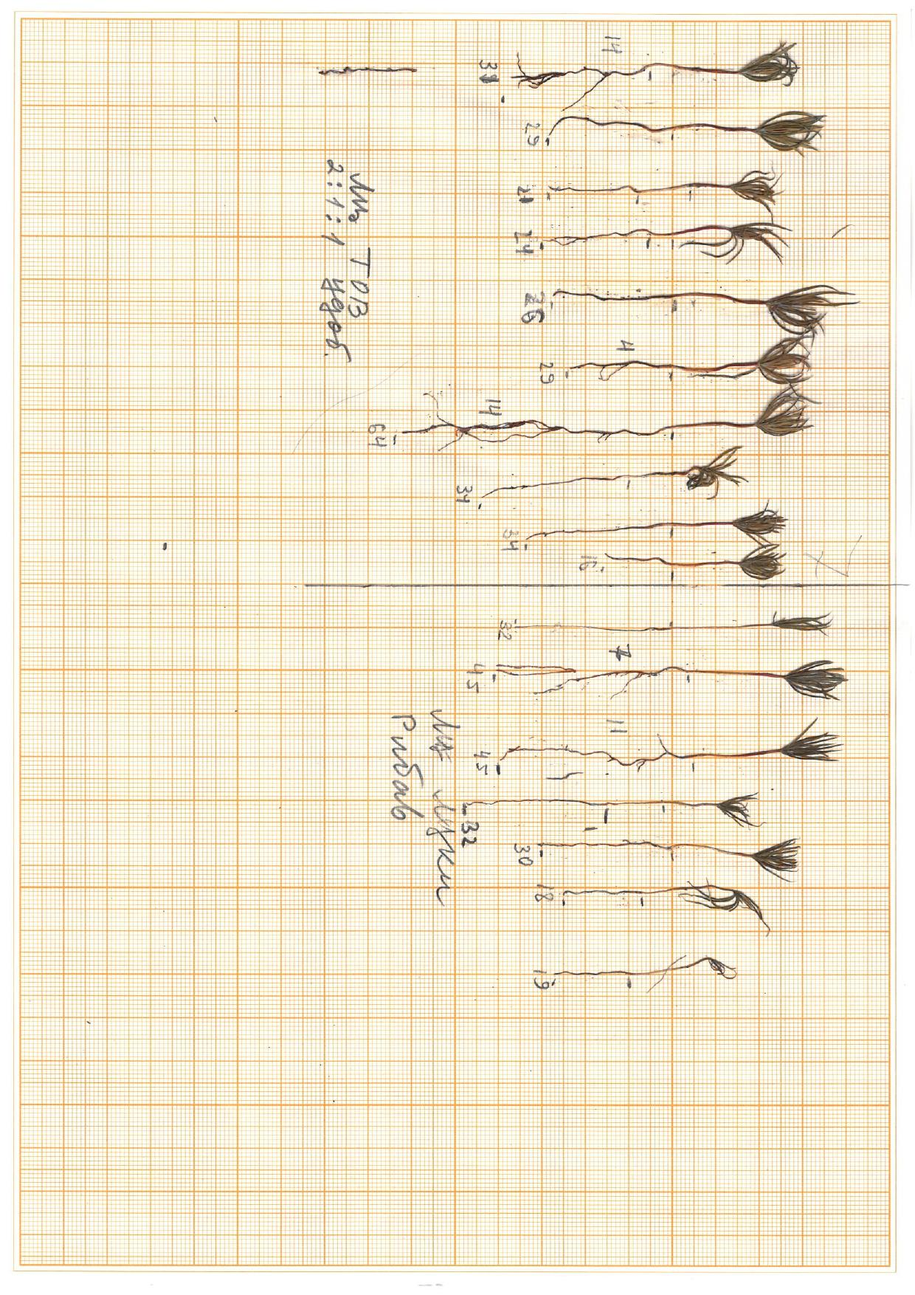root: (399, 391, 653, 453), (509, 50, 647, 113), (497, 732, 691, 773), (494, 662, 683, 699), (475, 471, 625, 498), (546, 114, 654, 145), (552, 282, 671, 306), (567, 356, 666, 384), (525, 521, 658, 541), (543, 227, 645, 248), (464, 796, 611, 810), (537, 837, 671, 852), (515, 622, 670, 634), (547, 181, 639, 200), (562, 883, 643, 902), (552, 963, 629, 979), (604, 552, 672, 569)
seeding: (685, 876, 772, 936), (767, 283, 860, 338), (754, 110, 829, 159), (685, 446, 751, 501), (783, 653, 850, 704), (727, 168, 785, 226), (738, 38, 802, 90), (721, 219, 790, 266), (758, 335, 821, 386), (754, 389, 818, 439), (781, 716, 841, 765), (750, 837, 808, 884), (729, 501, 790, 544), (716, 789, 769, 830), (738, 546, 788, 583), (773, 607, 832, 637), (705, 953, 740, 983)
stem: (667, 355, 757, 381), (671, 288, 765, 311), (684, 665, 782, 684), (648, 60, 737, 80), (657, 417, 754, 435), (654, 121, 755, 138), (673, 839, 751, 860), (691, 745, 780, 762), (630, 958, 704, 977), (644, 221, 721, 239), (610, 798, 713, 811), (672, 622, 774, 635), (639, 182, 727, 195), (672, 559, 739, 573), (627, 466, 687, 481), (658, 517, 730, 529), (644, 882, 684, 896)
